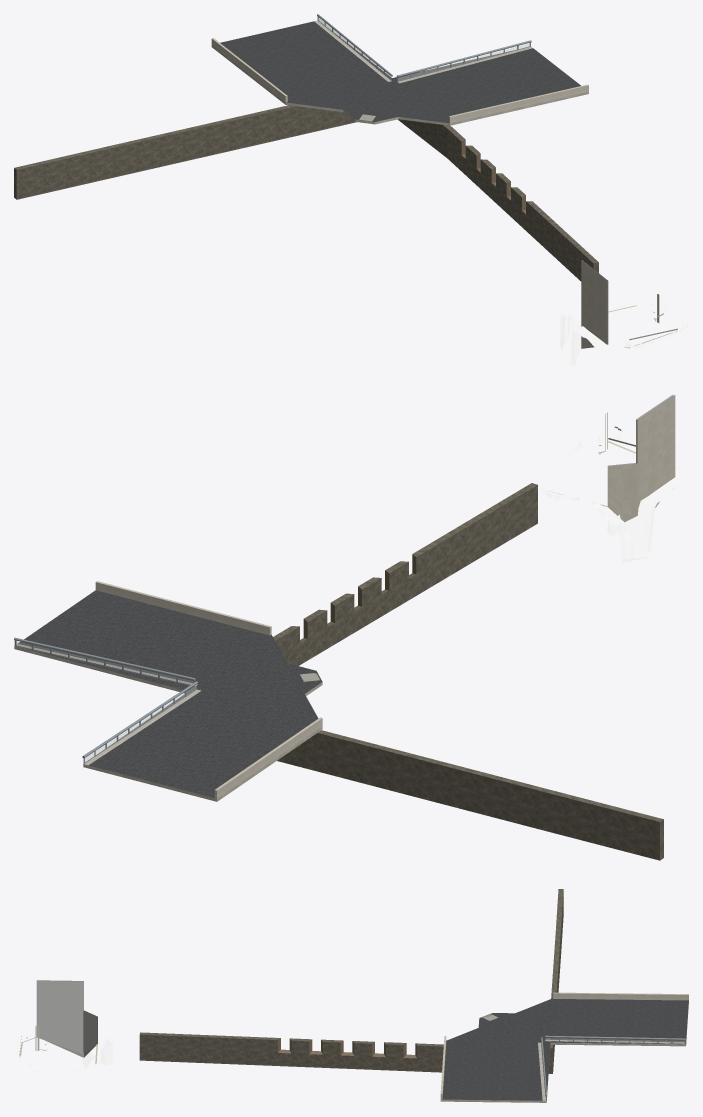
Rendered from site.glb.
3 views of the same model, one above another, from view 1: azimuth 30°, elevation 25°; view 2: azimuth 150°, elevation 25°; view 3: azimuth 270°, elevation 25° (orthographic). The views are drawn at different scales.
Visible parts, largest first — view 1: site/walls, site/floors, site/frames, site/glass; view 2: site/walls, site/floors, site/frames, site/glass; view 3: site/walls, site/floors, site/frames, site/glass.
Boxes of the visible parts, x1=… form: site/walls: x1=14, y1=20, x2=688, y2=365; site/floors: x1=220, y1=21, x2=580, y2=123; site/frames: x1=317, y1=14, x2=531, y2=81; site/glass: x1=319, y1=18, x2=529, y2=80; site/walls: x1=14, y1=394, x2=688, y2=860; site/floors: x1=18, y1=590, x2=322, y2=797; site/frames: x1=14, y1=637, x2=197, y2=763; site/glass: x1=16, y1=641, x2=196, y2=761; site/walls: x1=14, y1=889, x2=688, y2=1102; site/floors: x1=442, y1=998, x2=688, y2=1100; site/frames: x1=540, y1=1035, x2=685, y2=1100; site/glass: x1=546, y1=1038, x2=684, y2=1043.
Size of the model in its own units: 88.74 by 17.41 by 117.
Materials: 12 (4 with a texture image).
